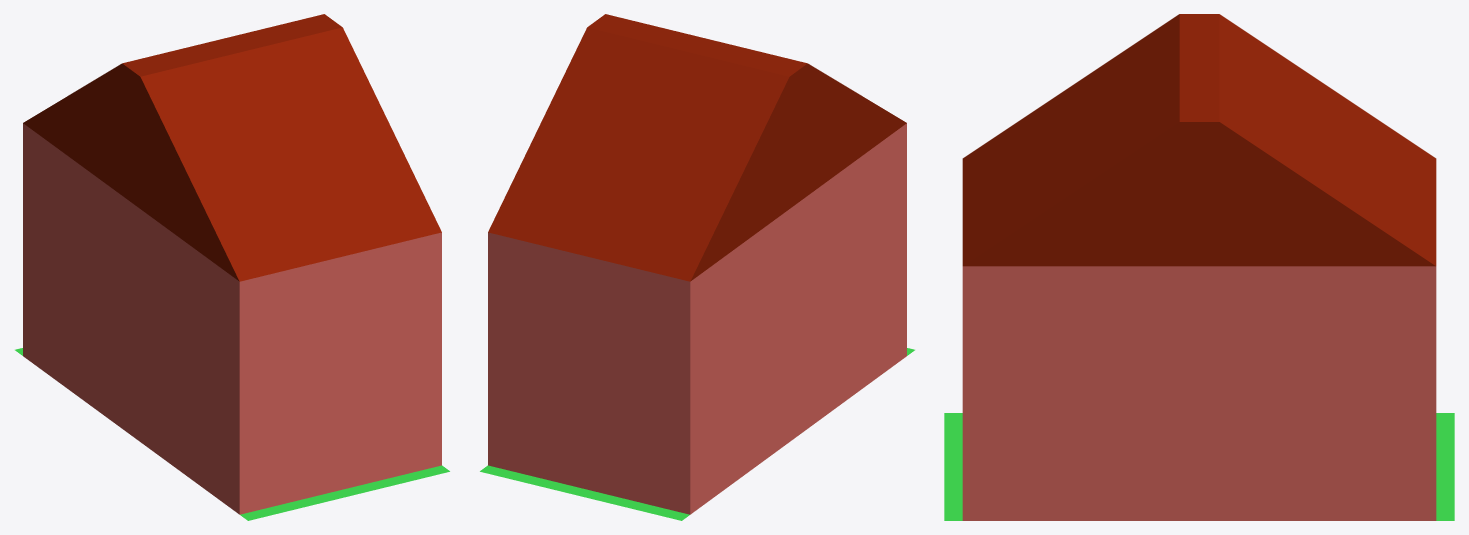
File: easy_house2x1.fbx
3 views of the same model, side by side, from view 1: azimuth 30°, elevation 25°; view 2: azimuth 150°, elevation 25°; view 3: azimuth 270°, elevation 25° (orthographic). The views are drawn at different scales.
Parts seen in each view (by area): view 1: House2x1; view 2: House2x1; view 3: House2x1.
Part boxes in pixels (box(x1,y1,x2,y2)): House2x1: box(15, 14, 449, 520); House2x1: box(480, 14, 914, 520); House2x1: box(944, 14, 1454, 520).
Size of the model in its own units: 1000 by 1725 by 2000.
